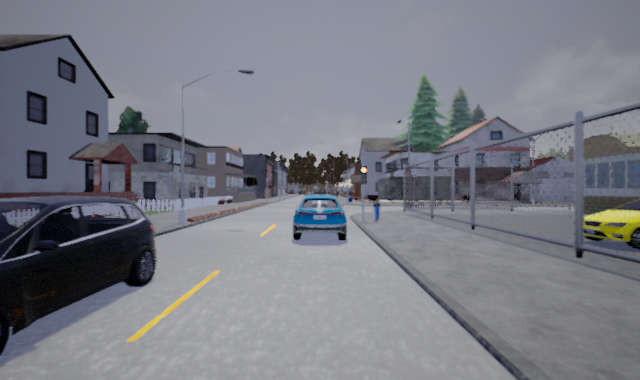pedestrian: (369, 196, 384, 222)
traffic_light: (359, 164, 368, 184)
vehicle: (1, 194, 157, 364), (583, 193, 640, 249), (292, 195, 347, 242)
